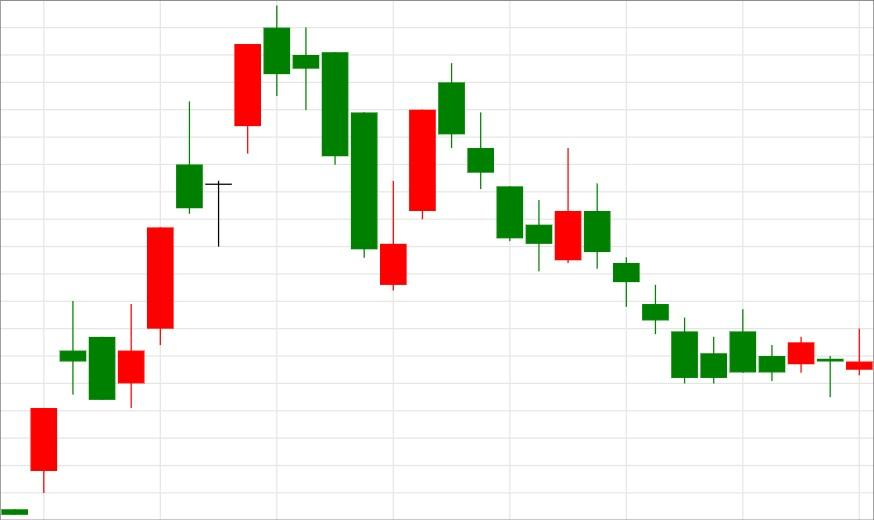three_black_crows_fall: (379, 63, 523, 291)
